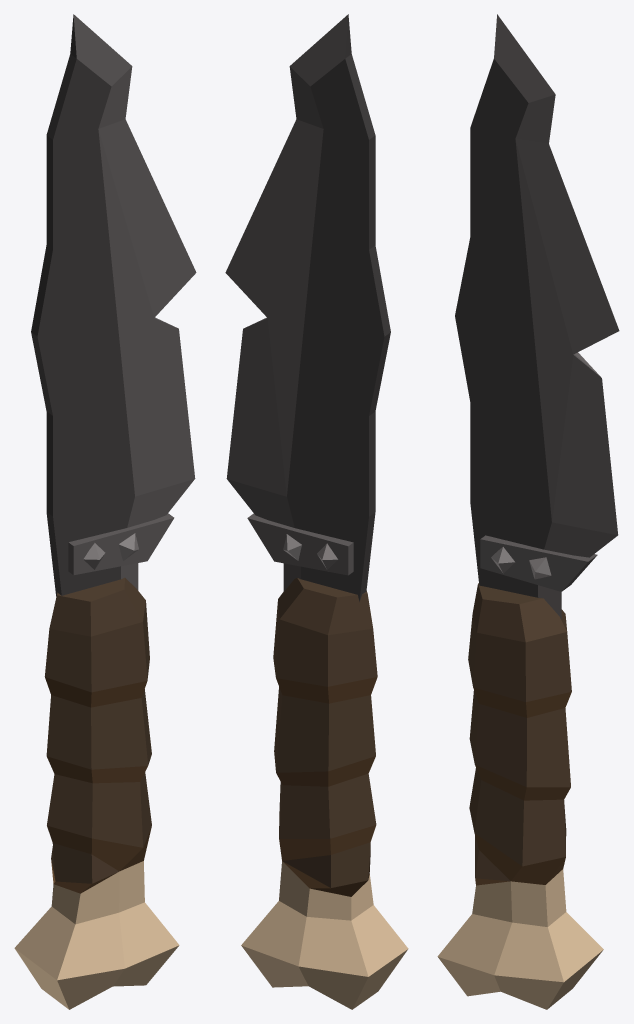
The model's file is SM_Knife_Goblin.fbx.
3 views of the same model, side by side, from view 1: azimuth 30°, elevation 25°; view 2: azimuth 150°, elevation 25°; view 3: azimuth 330°, elevation 25° (orthographic).
Visible parts, largest first — view 1: SM_Knife_Goblin; view 2: SM_Knife_Goblin; view 3: SM_Knife_Goblin.
Boxes of the visible parts, x1,y1,x2,y2 form: SM_Knife_Goblin: (14,14,196,1009); SM_Knife_Goblin: (225,14,408,1009); SM_Knife_Goblin: (437,14,619,1009).
Bounding box in the file's own units: 0.106 × 0.6123 × 0.0617.
